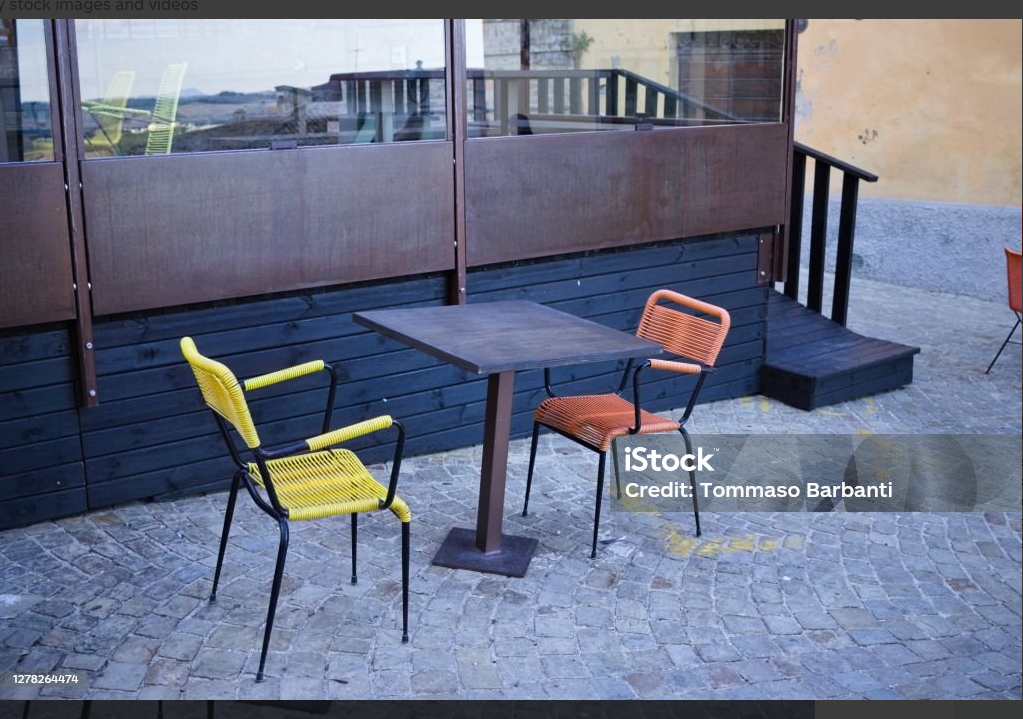obstacle: (350, 299, 666, 578), (169, 333, 417, 674), (520, 289, 736, 546)
